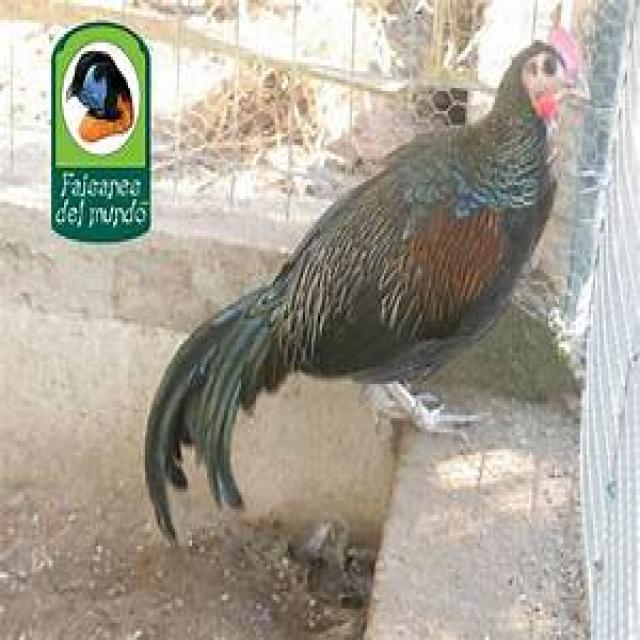hen: (143, 28, 591, 546)
